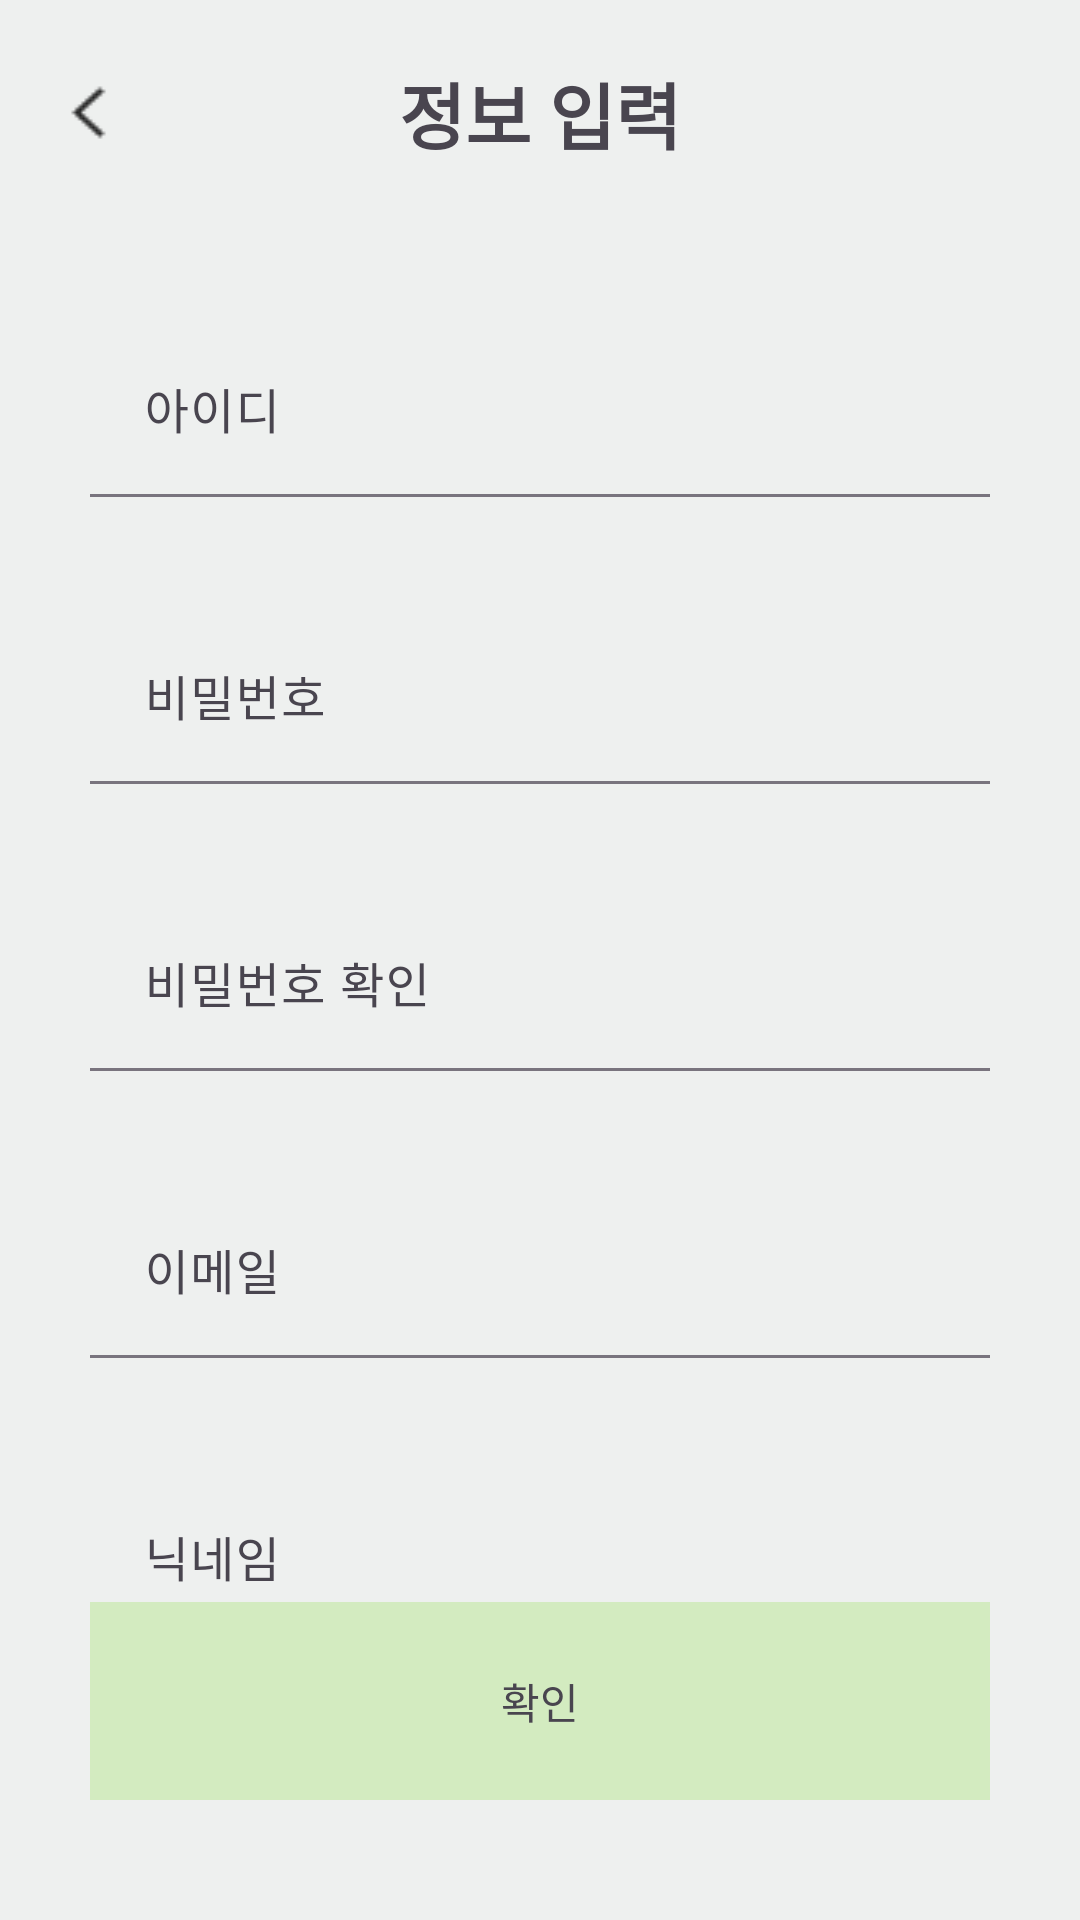

Icons on this 1080px x 1920px Android screen, each with its box as (x1, y1, x2, y2):
back arrow: (71, 86, 106, 139)
